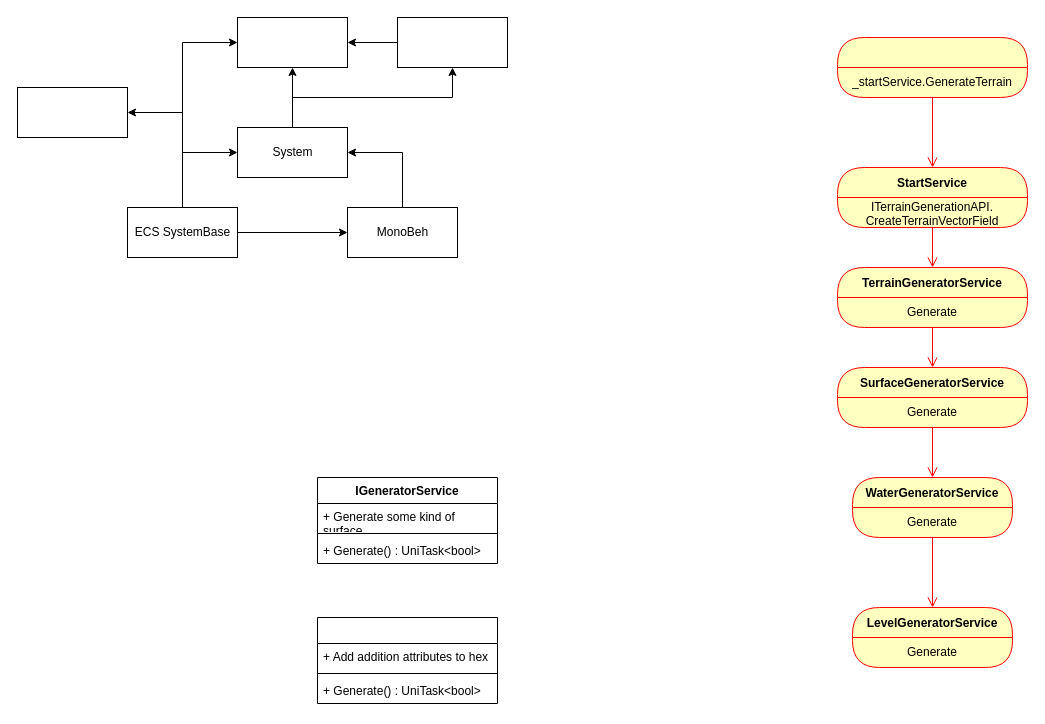
The diagram is 1045 pixels wide and 724 high, and some of its shapes have lost their labels. The shapes that lost their labels are listed below. From the top down, each one's box as (x1, y1, x2, y2) in pixels, then its label:
(236, 16, 348, 68): Data Layer
(396, 16, 508, 68): Utils
(836, 36, 1028, 98): GeneratorUIView
(16, 86, 128, 138): Entities
(316, 616, 498, 704): IDecorationService
